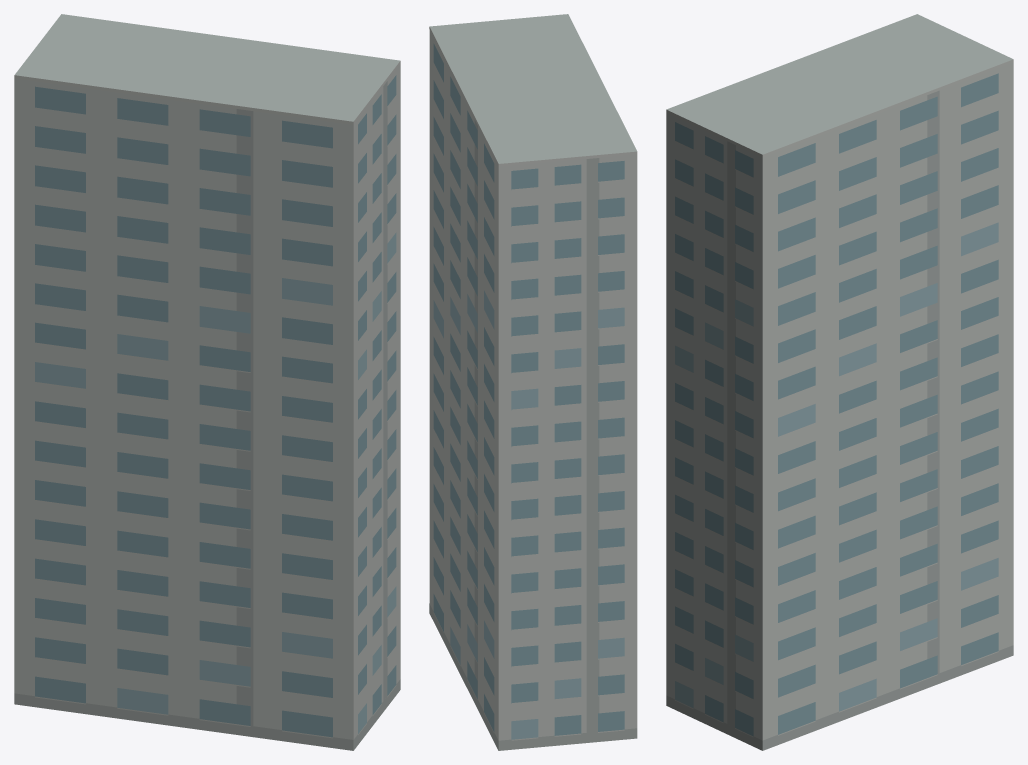
Rendered from residential-5927c670-9206-4e78-aa72-09b15b3ed5c2.glb.
3 views of the same model, side by side, from view 1: azimuth 30°, elevation 25°; view 2: azimuth 150°, elevation 25°; view 3: azimuth 270°, elevation 25° (orthographic). The views are drawn at different scales.
Parts seen in each view (by area): view 1: residential-5927c670-9206-4e78-aa72-09b15b3ed5c2.tmp; view 2: residential-5927c670-9206-4e78-aa72-09b15b3ed5c2.tmp; view 3: residential-5927c670-9206-4e78-aa72-09b15b3ed5c2.tmp.
Part boxes in pixels (x1,y1,x2,y2): residential-5927c670-9206-4e78-aa72-09b15b3ed5c2.tmp: (14,14,400,750); residential-5927c670-9206-4e78-aa72-09b15b3ed5c2.tmp: (429,14,637,750); residential-5927c670-9206-4e78-aa72-09b15b3ed5c2.tmp: (666,14,1013,750).
Size of the model in its own units: 24.32 by 48 by 25.37.
